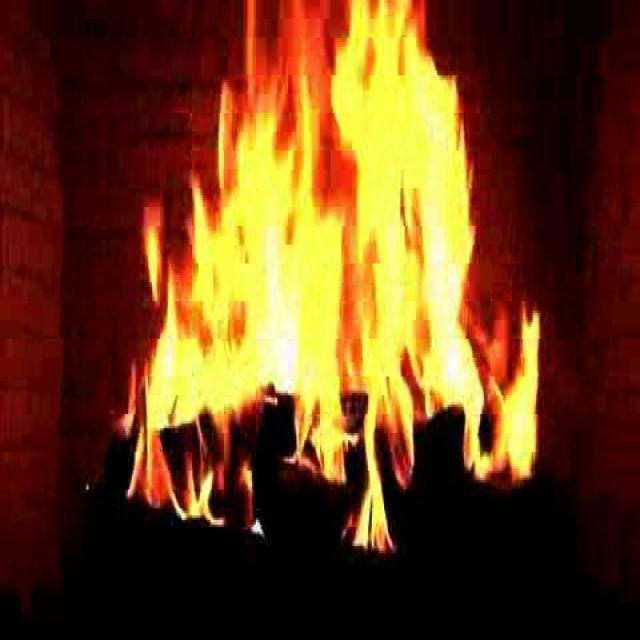Fire: (132, 24, 524, 544)
